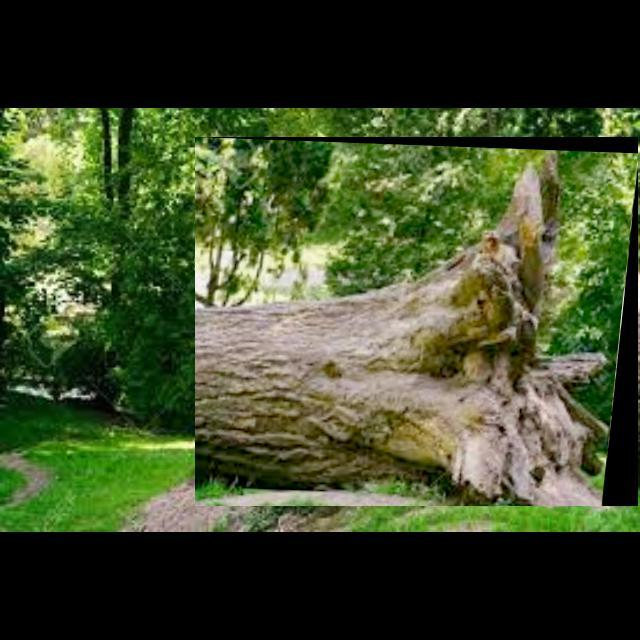fallen_tree: (195, 137, 639, 507)
